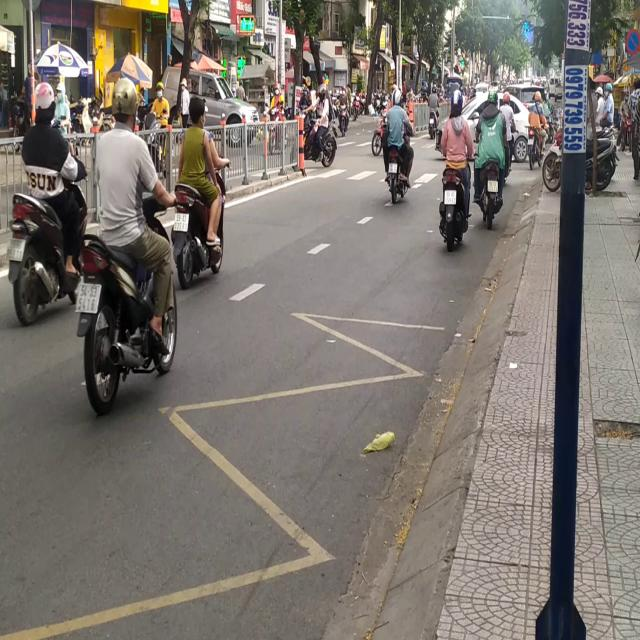bien_trang: (75, 281, 100, 314)
